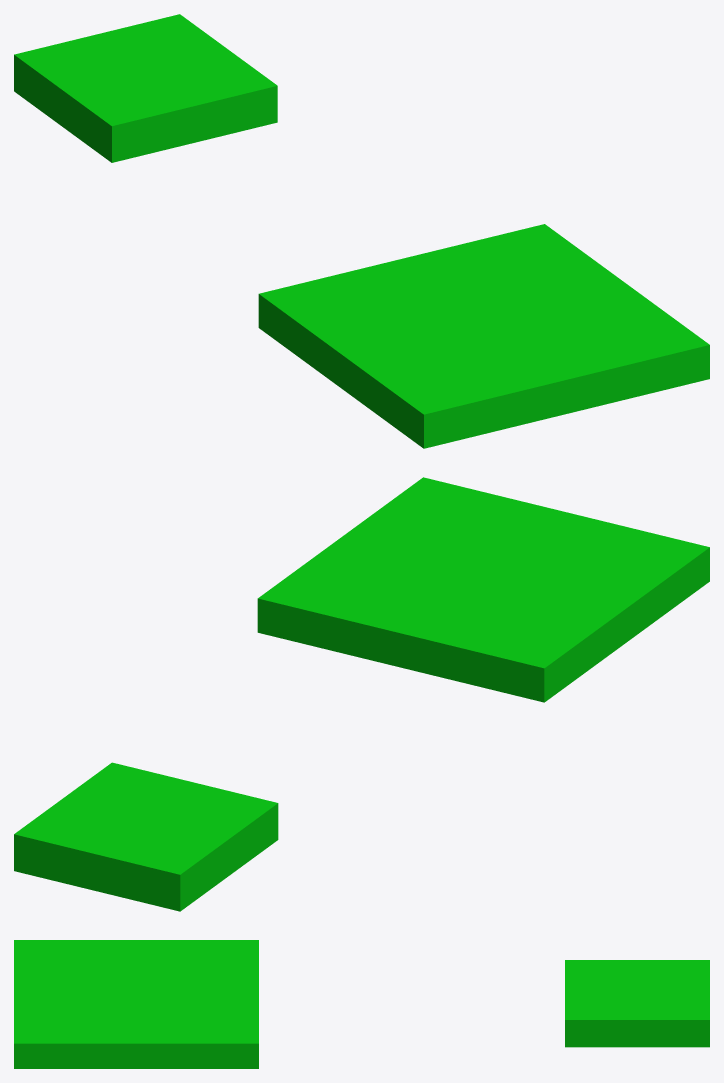
The model's file is hole.dae.
The picture shows the model from 3 angles, top to bottom: view 1: azimuth 30°, elevation 25°; view 2: azimuth 150°, elevation 25°; view 3: azimuth 270°, elevation 25°; orthographic projection. The views are drawn at different scales.
Parts seen in each view (by area): view 1: torpedo_board_holes_002; view 2: torpedo_board_holes_002; view 3: torpedo_board_holes_002.
Part boxes in pixels (x1=…): torpedo_board_holes_002: x1=14, y1=14, x2=709, y2=448; torpedo_board_holes_002: x1=14, y1=477, x2=709, y2=911; torpedo_board_holes_002: x1=14, y1=940, x2=709, y2=1068.
Size of the model in its own units: 0.3048 by 0.8659 by 0.0374.
